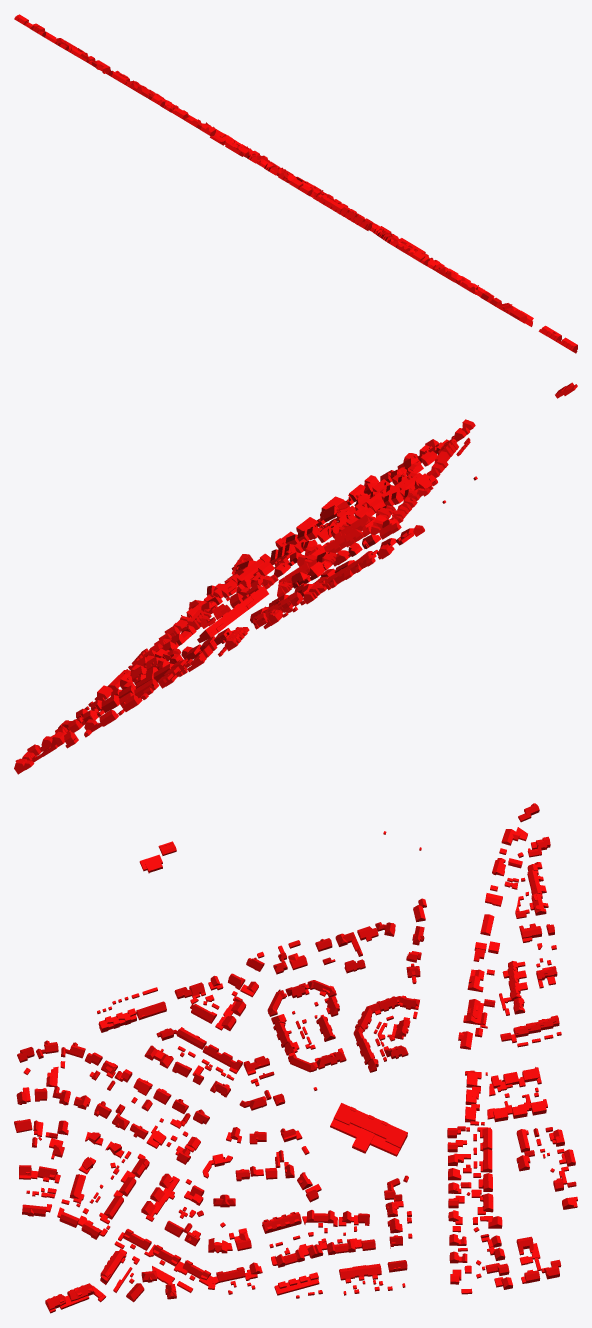
The picture shows the model from 3 angles, top to bottom: view 1: azimuth 30°, elevation 25°; view 2: azimuth 150°, elevation 25°; view 3: azimuth 270°, elevation 25°; orthographic projection. The views are drawn at different scales.
Visible parts, largest first — view 1: mesh; view 2: mesh; view 3: mesh.
Part boxes in pixels (<box>): mesh: <box>14,14,577,353</box>; mesh: <box>14,382,577,774</box>; mesh: <box>14,803,577,1313</box>.
Bounding box in the file's own units: 437 × 318 × 521.
